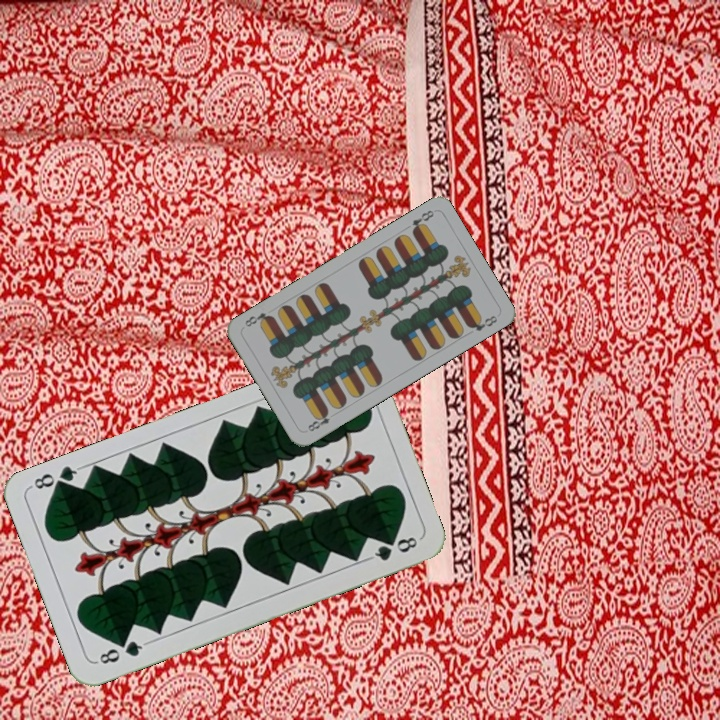E8: (408, 206, 437, 236), (304, 406, 333, 434)
G8: (92, 636, 149, 667)
